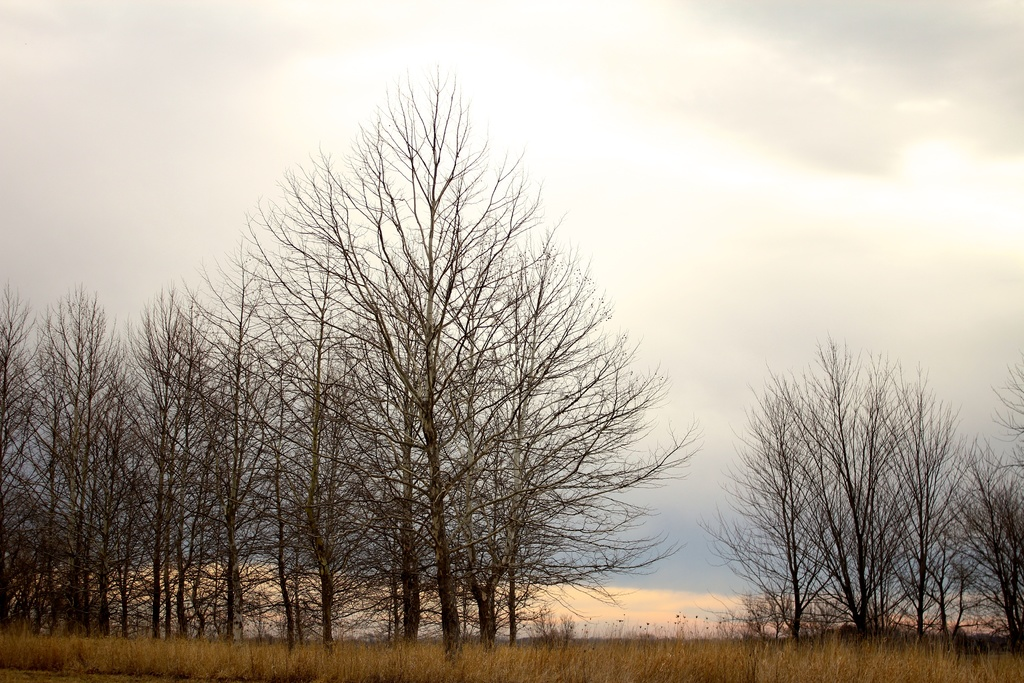Tree: (0, 57, 691, 657), (730, 331, 979, 653)
